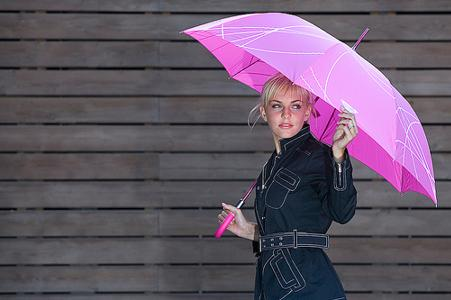person: (217, 72, 360, 300)
